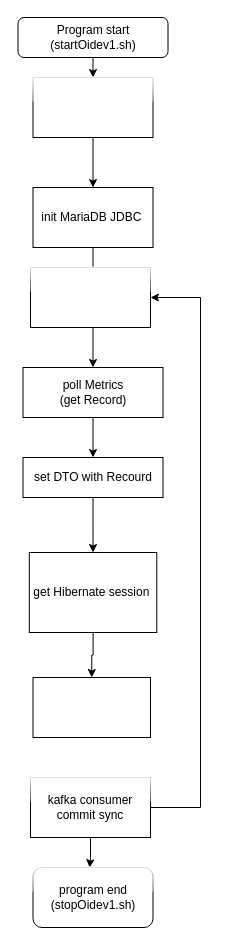
Image size: 226x945. Some labels were removed from this diagram. Each missing label, with the box of its shape:
init KafkaConsumer (with properties file): (32, 76, 153, 138)
listen Metatron metrics (loop): (30, 266, 150, 328)
store into MariaDB: (32, 676, 150, 738)
